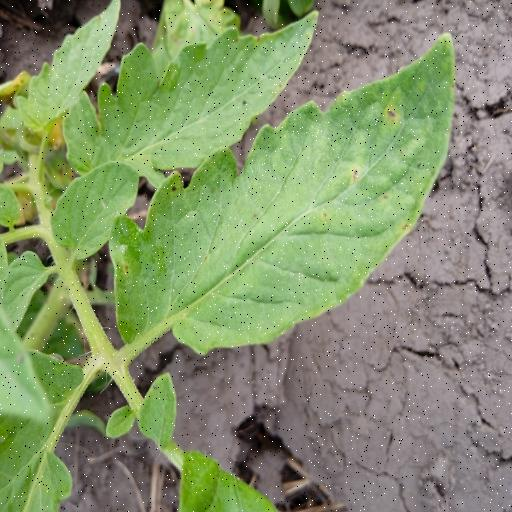Tomato_Brown_Spots: (106, 32, 470, 361), (62, 10, 322, 187)
